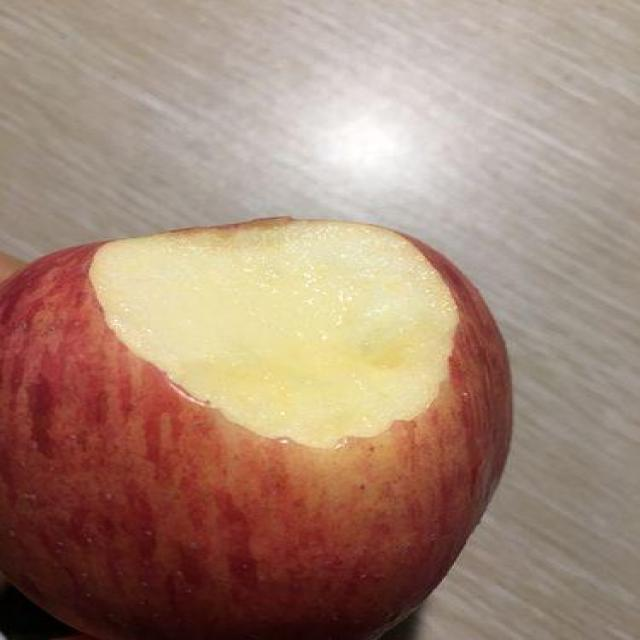Rotten: (3, 206, 526, 640)
